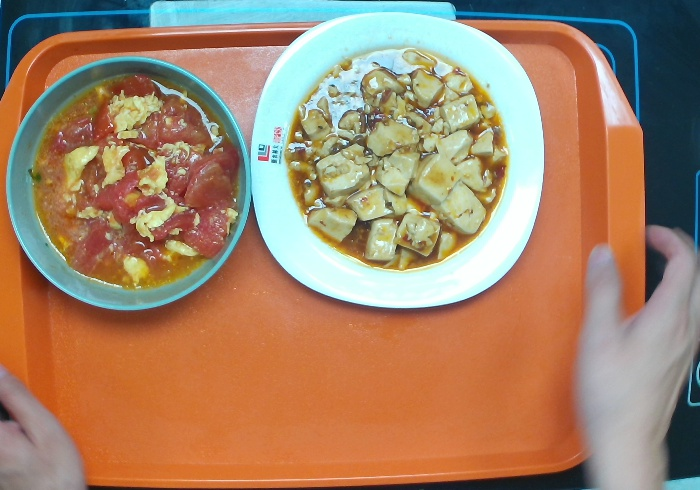ZNLD-Qing_Hua_Yuan_Wan: (8, 53, 254, 307)
ZNLD-Yuan_Jiao_Pan: (248, 3, 553, 309)
